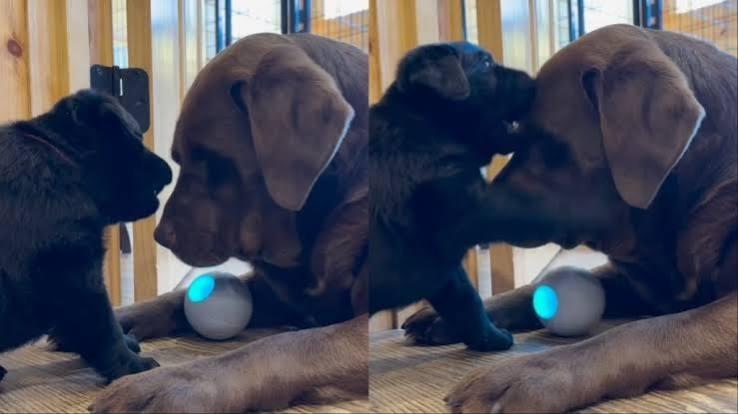adult_dog: (443, 21, 738, 414), (90, 30, 369, 414)
puppy-dog: (369, 40, 537, 352), (0, 87, 172, 388)
